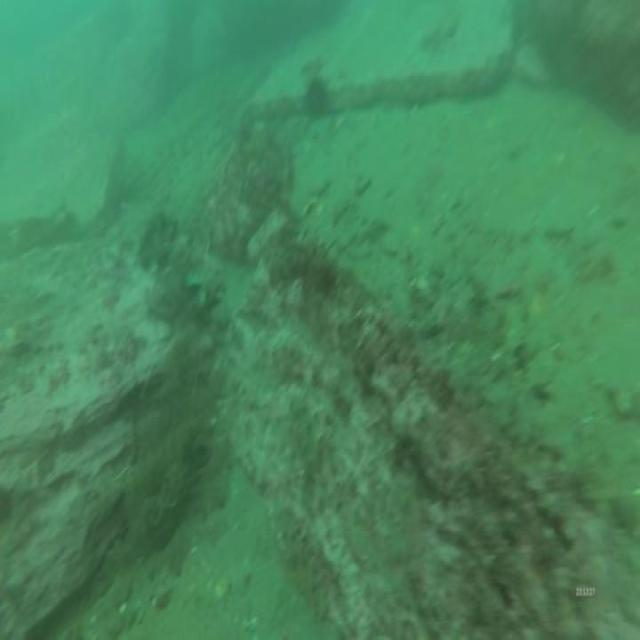echinus: (305, 69, 331, 125)
holothurian: (285, 386, 323, 485)
starfish: (187, 258, 229, 316)
